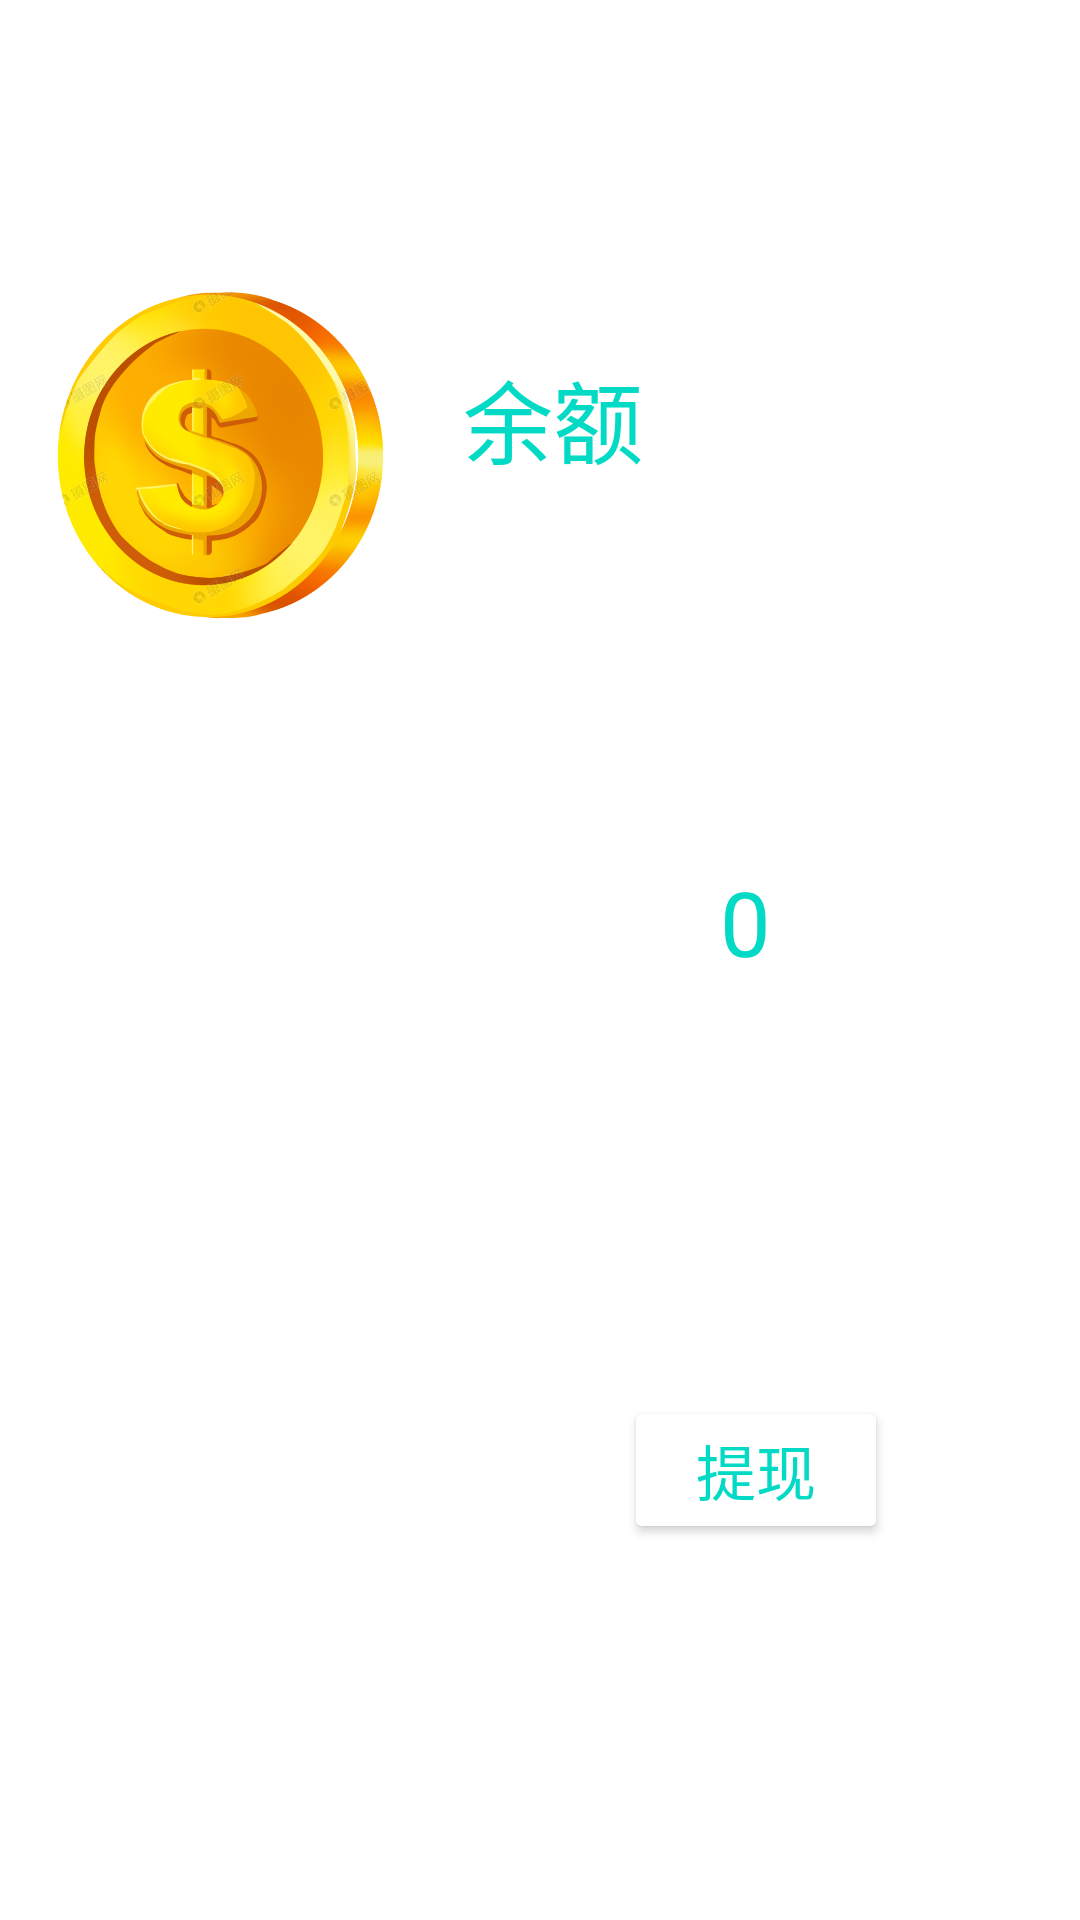

Icons on this 1080px x 1920px Android screen, each with the point to tap as (x,y):
money: (220,455)
